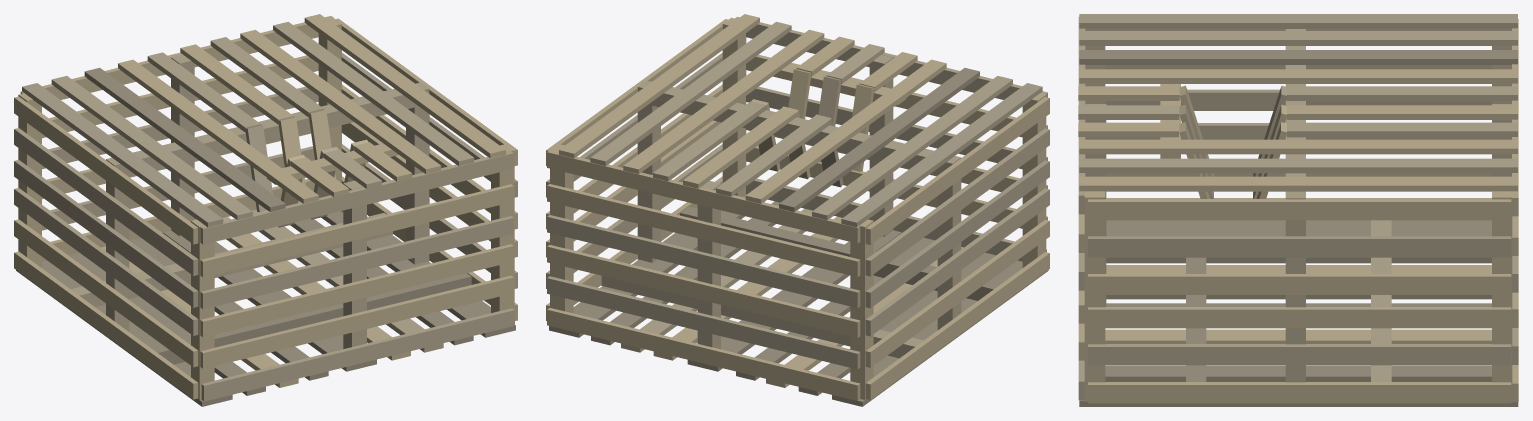
Rendered from lobster_trap_wood1.glb.
3 views of the same model, side by side, from view 1: azimuth 30°, elevation 25°; view 2: azimuth 150°, elevation 25°; view 3: azimuth 270°, elevation 25° (orthographic). The views are drawn at different scales.
Visible parts, largest first — view 1: LobsterTrapWood1; view 2: LobsterTrapWood1; view 3: LobsterTrapWood1.
Boxes of the visible parts, left/top/right/bottom form: LobsterTrapWood1: left=14, top=14, right=517, bottom=406; LobsterTrapWood1: left=546, top=14, right=1049, bottom=406; LobsterTrapWood1: left=1078, top=14, right=1518, bottom=406.
Size of the model in its own units: 0.986 by 0.5325 by 0.9824.
